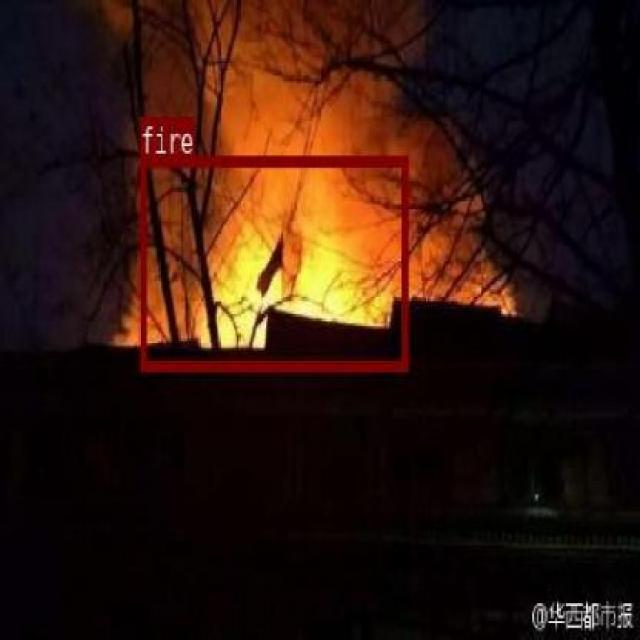Fire: (139, 154, 407, 368)
Smoke: (111, 15, 488, 160), (394, 170, 528, 342)
